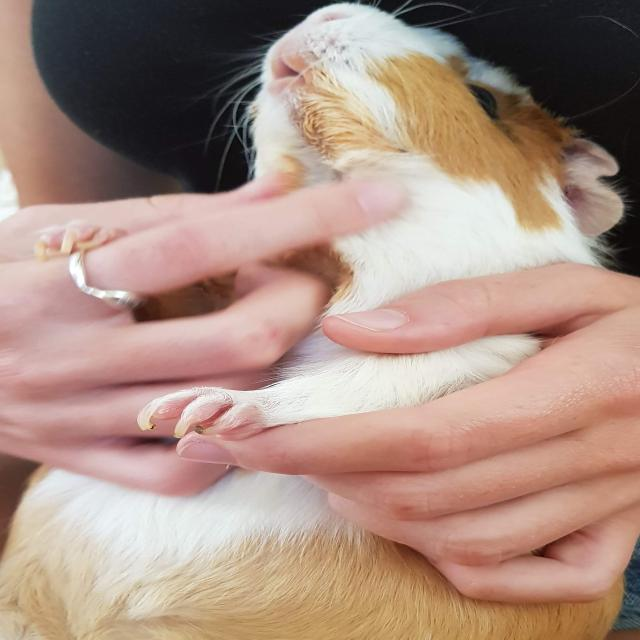guinea pig: (10, 3, 629, 638)
